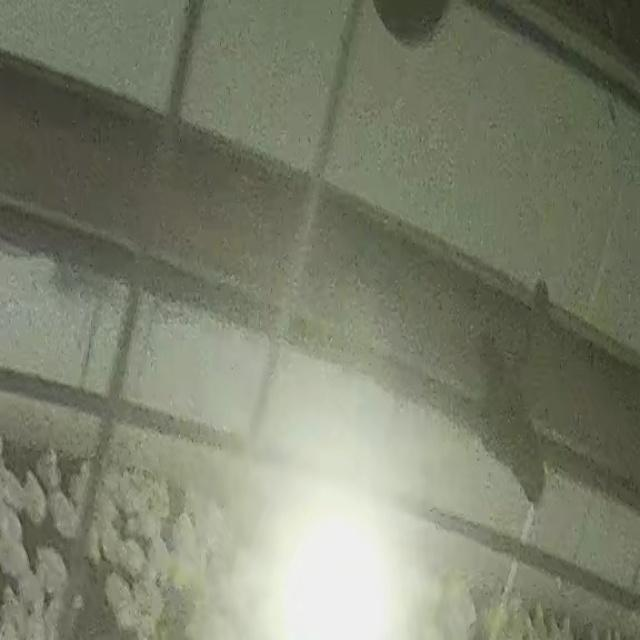chicken: (169, 512, 204, 566), (101, 572, 133, 624), (21, 473, 51, 523), (36, 546, 69, 591), (65, 455, 93, 506), (0, 543, 33, 582), (94, 494, 128, 530), (34, 447, 61, 488), (0, 504, 26, 546), (20, 572, 44, 614), (0, 460, 20, 509), (1, 587, 26, 624), (54, 492, 76, 532), (123, 537, 146, 572), (78, 530, 100, 564), (105, 522, 122, 562)
